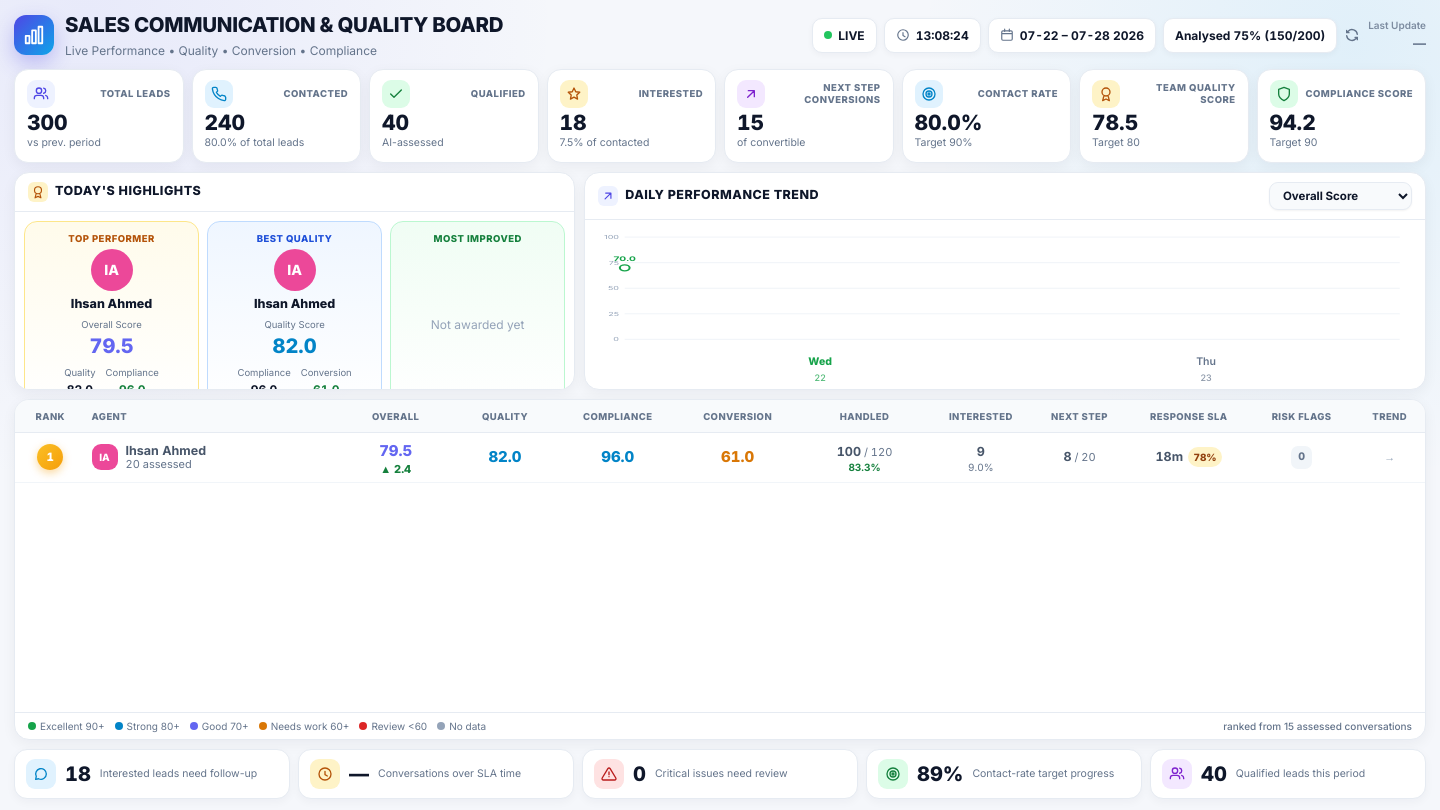
Test: drill-down conflict badge › names both readings when the CRM and the transcript disagree
Click the element with class "click" that starts with "Interested leads need follow-up" at (152, 774), box [14, 749, 290, 799]
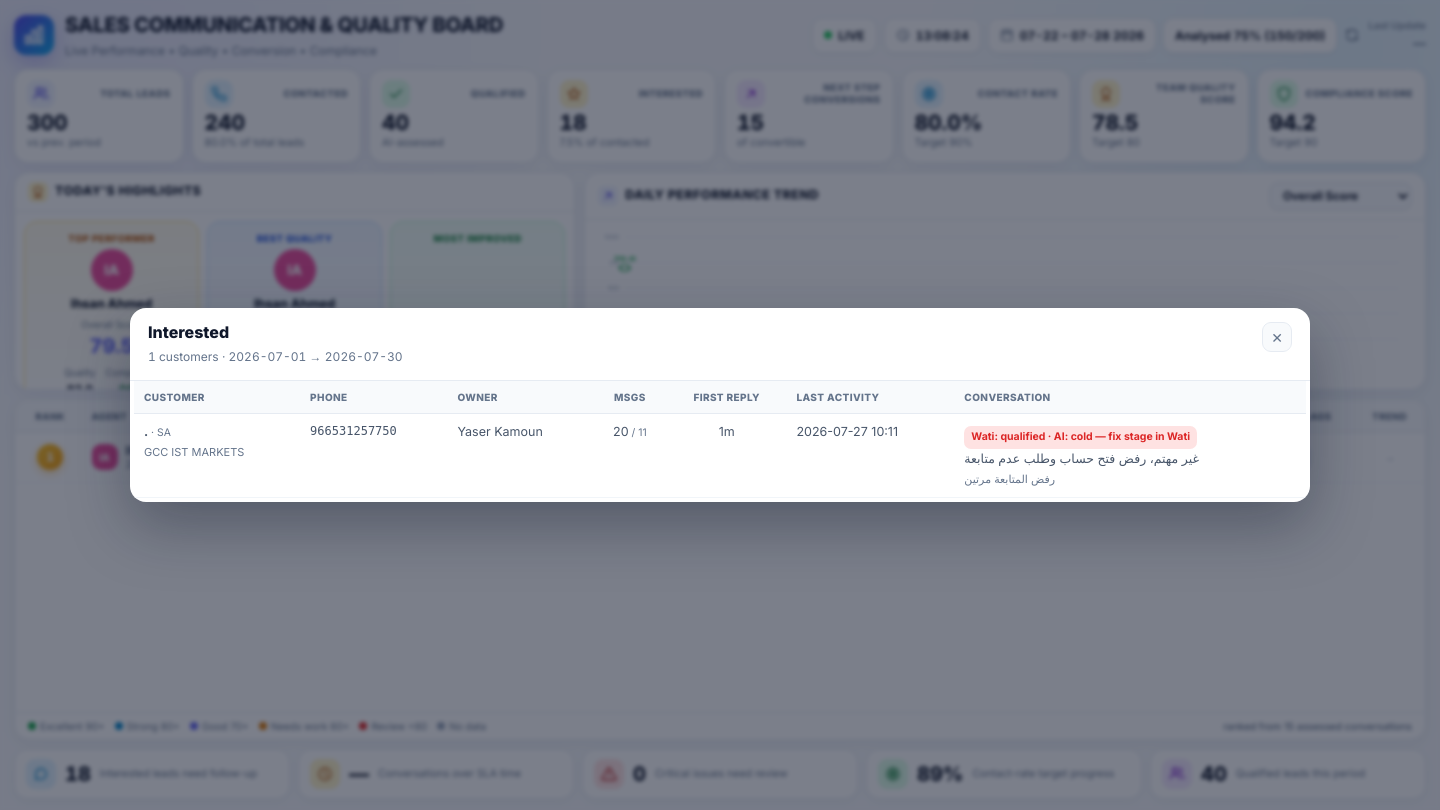
Expected: the row that starts with "GCC IST MARKETS" is shown, [134, 414, 1306, 497]
Expected: the text "Wati: qualified · AI: cold — fix stage in Wati" is shown, [964, 426, 1197, 449]
Expected: the text with class "bad" shows "qualified", [1000, 430, 1045, 443]
